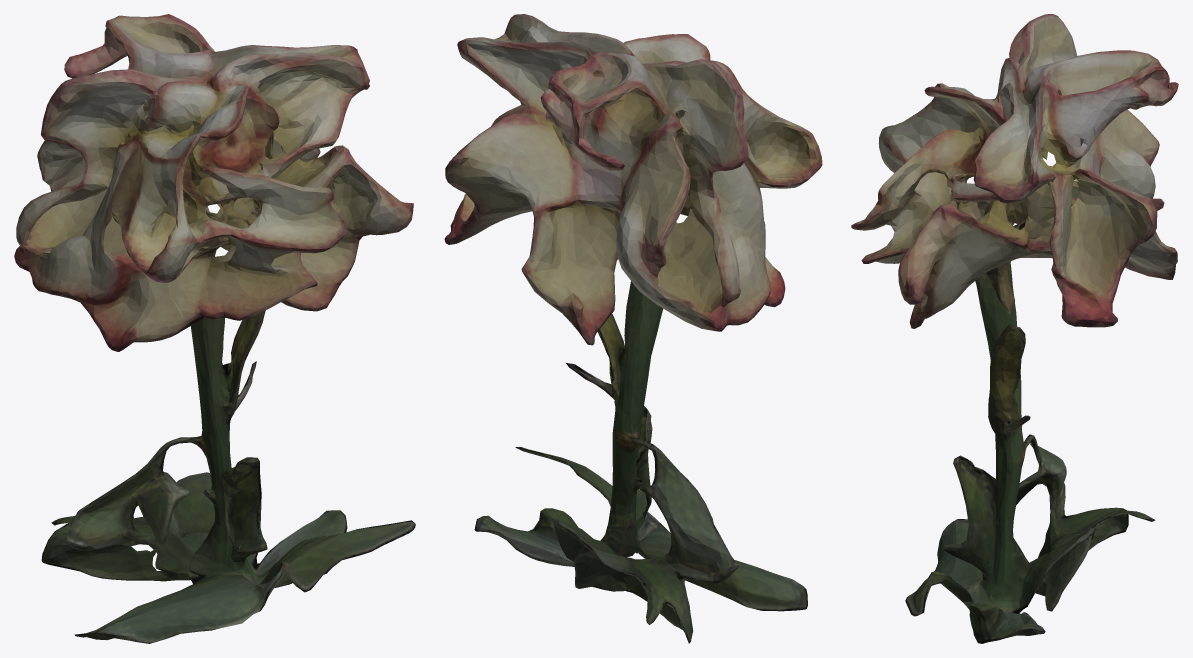
3 views of the same model, side by side, from view 1: azimuth 30°, elevation 25°; view 2: azimuth 150°, elevation 25°; view 3: azimuth 270°, elevation 25° (orthographic). The views are drawn at different scales.
Visible parts, largest first — view 1: world; view 2: world; view 3: world.
Part boxes in pixels (x1,y1,x2,y2): world: (14,14,415,643); world: (444,14,822,643); world: (851,14,1178,643).
Bounding box in the file's own units: 0.5643 × 0.9341 × 0.5145.
Materials: 1 (1 with a texture image).
